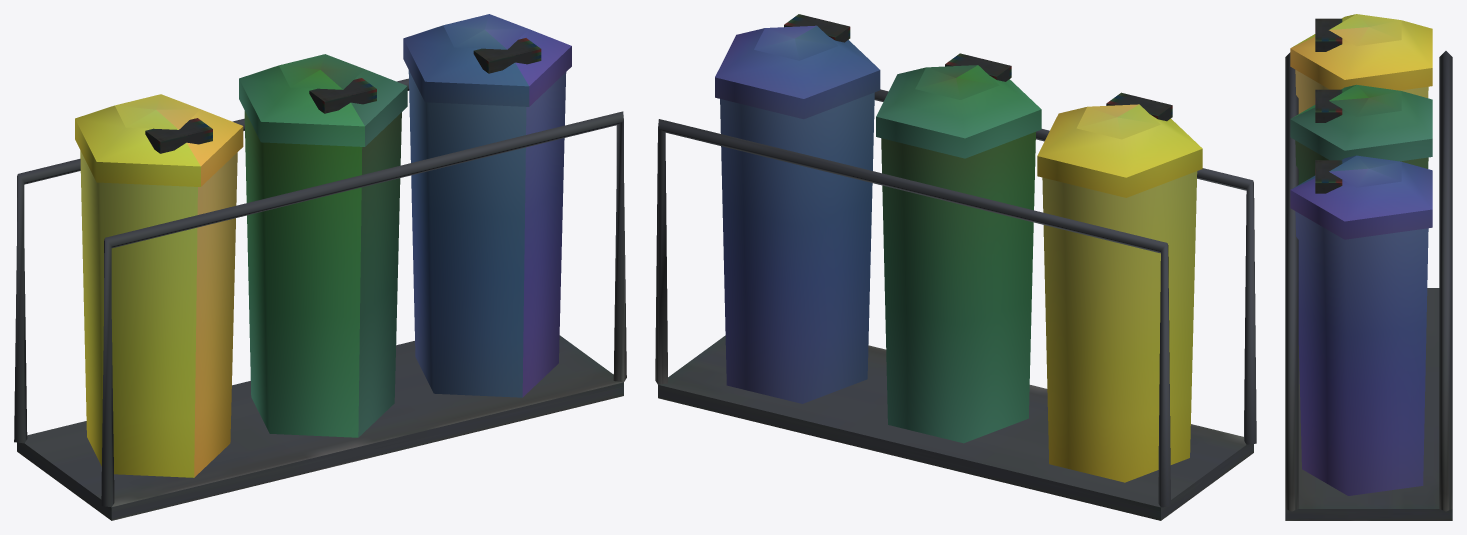
Rendered from poubelles_tri_lod2.glb.
3 views of the same model, side by side, from view 1: azimuth 30°, elevation 25°; view 2: azimuth 150°, elevation 25°; view 3: azimuth 270°, elevation 25° (orthographic). The views are drawn at different scales.
Parts seen in each view (by area): view 1: poubelles_tri; view 2: poubelles_tri; view 3: poubelles_tri.
Part boxes in pixels (<box>): poubelles_tri: <box>14,14,626,520</box>; poubelles_tri: <box>655,14,1256,520</box>; poubelles_tri: <box>1285,14,1452,520</box>.
Size of the model in its own units: 1.6 by 1.03 by 0.5.
Materials: 1 (1 with a texture image).
